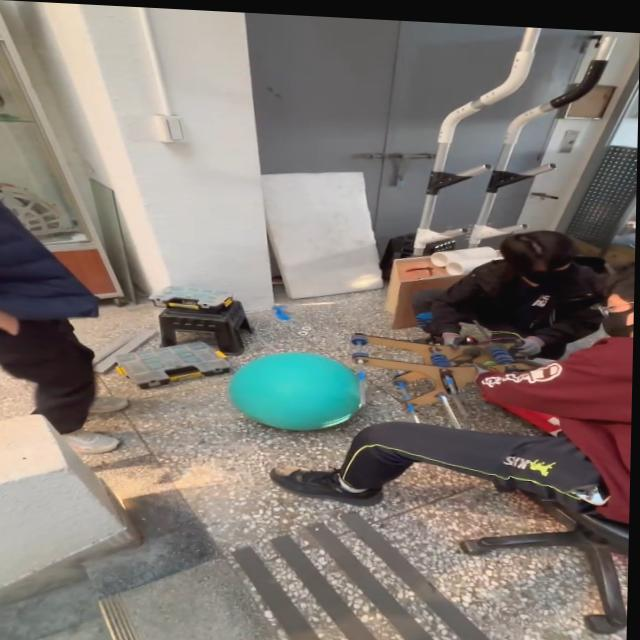ALGAE: (225, 348, 365, 435)
